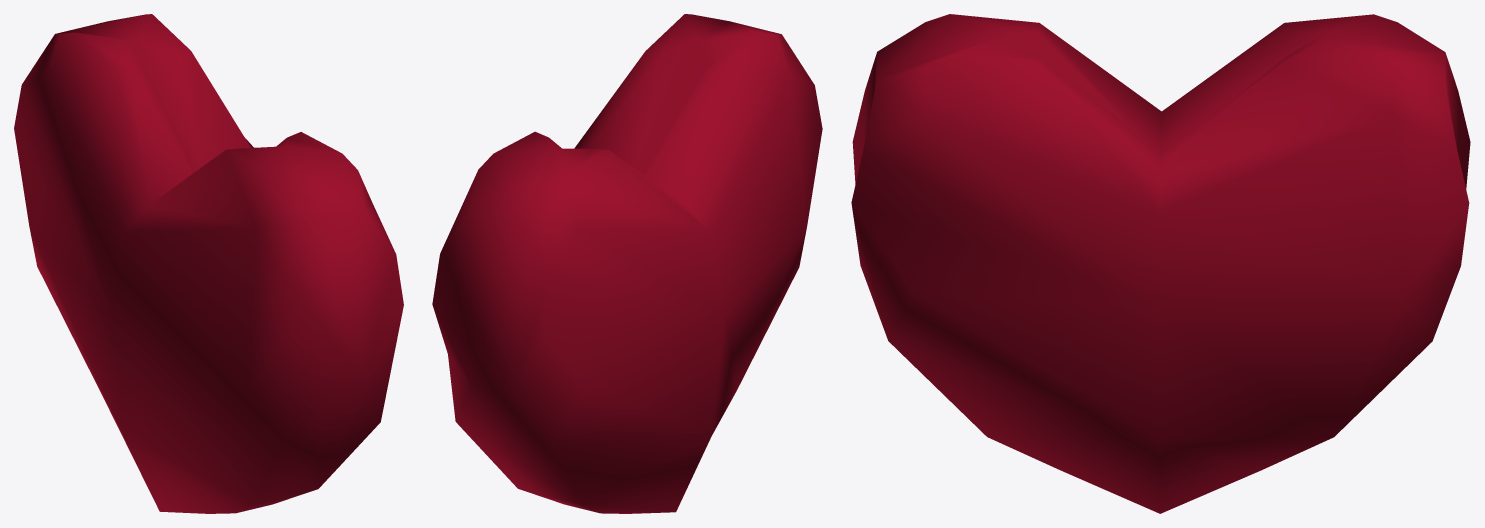
The model's file is Heart.fbx.
3 views of the same model, side by side, from view 1: azimuth 30°, elevation 25°; view 2: azimuth 150°, elevation 25°; view 3: azimuth 270°, elevation 25° (orthographic). The views are drawn at different scales.
Parts seen in each view (by area): view 1: Sphere; view 2: Sphere; view 3: Sphere.
Part boxes in pixels (x1,y1,x2,y2): Sphere: (14,14,403,513); Sphere: (432,14,822,513); Sphere: (851,14,1470,513).
Bounding box in the file's own units: 58.95 × 121 × 145.
